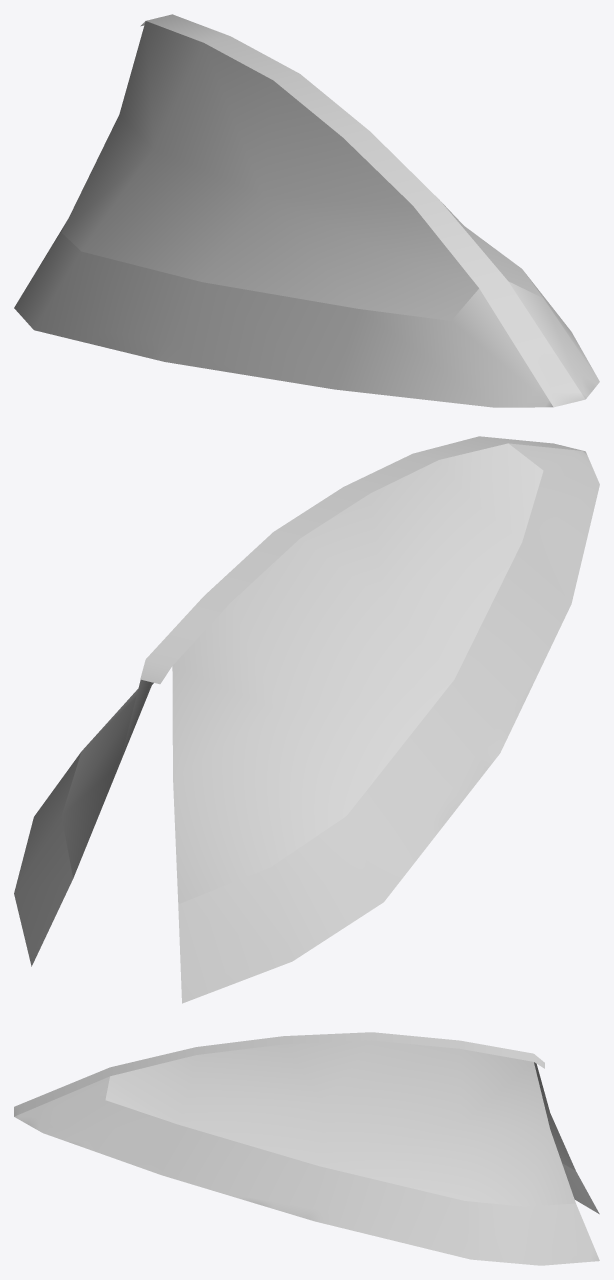
The model's file is M2antenna.glb.
The picture shows the model from 3 angles, top to bottom: view 1: azimuth 30°, elevation 25°; view 2: azimuth 150°, elevation 25°; view 3: azimuth 270°, elevation 25°; orthographic projection. The views are drawn at different scales.
Visible parts, largest first — view 1: Object_23.127, Object_23.128, Object_23.123, Object_23.130, Object_23.124, Object_23.125; view 2: Object_23.127, Object_23.128, Object_23.123, Object_23.124, Object_23.125, Object_23.130; view 3: Object_23.125, Object_23.124, Object_23.123, Object_23.127, Object_23.128.
Boxes of the visible parts, <box> form: Object_23.127: <box>61,21,478,320</box>; Object_23.128: <box>14,220,552,407</box>; Object_23.123: <box>140,14,585,407</box>; Object_23.130: <box>451,288,552,406</box>; Object_23.124: <box>508,273,599,399</box>; Object_23.125: <box>441,202,542,297</box>; Object_23.127: <box>172,443,543,904</box>; Object_23.128: <box>178,451,599,1003</box>; Object_23.123: <box>140,436,584,684</box>; Object_23.124: <box>14,682,153,966</box>; Object_23.125: <box>61,679,152,878</box>; Object_23.130: <box>508,443,584,470</box>; Object_23.125: <box>105,1040,575,1206</box>; Object_23.124: <box>14,1076,599,1265</box>; Object_23.123: <box>14,1032,544,1116</box>; Object_23.127: <box>534,1062,575,1170</box>; Object_23.128: <box>562,1163,599,1214</box>.
Bounding box in the file's own units: 0.094 × 0.0817 × 0.2153.
Materials: 1 (1 with a texture image).
